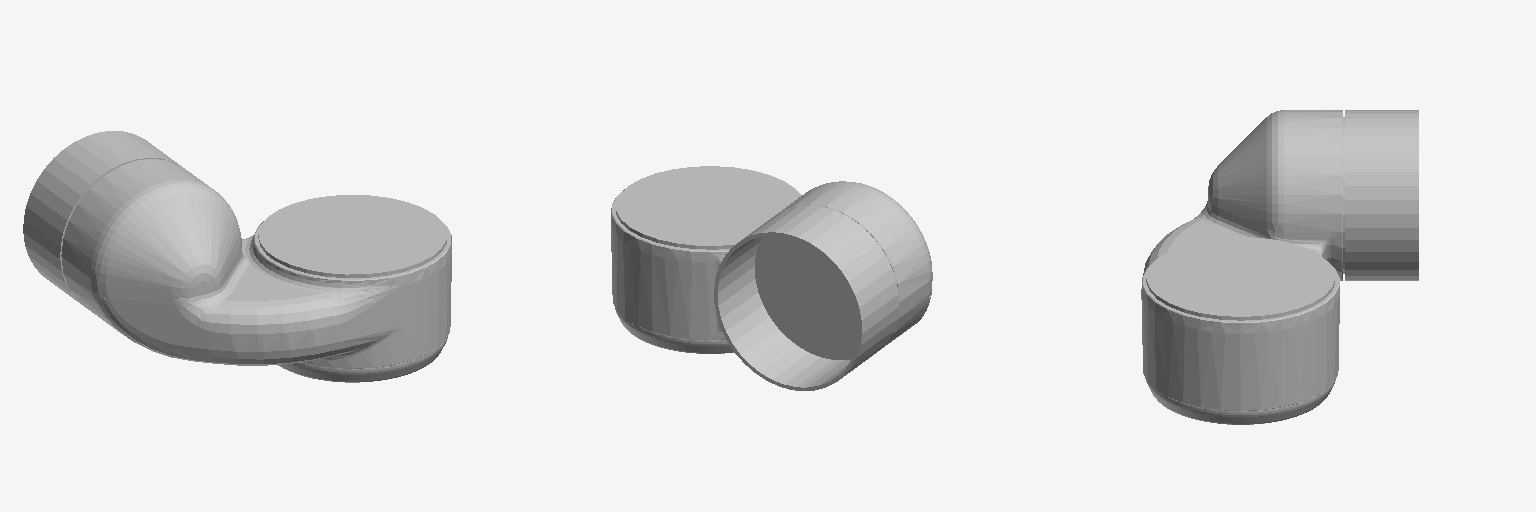
The model's file is shoulder_pan_link.obj.
3 views of the same model, side by side, from view 1: azimuth 30°, elevation 25°; view 2: azimuth 150°, elevation 25°; view 3: azimuth 270°, elevation 25° (orthographic).
Visible parts, largest first — view 1: shoulder_pan_link_shoulder pan link.001_Material_001.032; view 2: shoulder_pan_link_shoulder pan link.001_Material_001.032; view 3: shoulder_pan_link_shoulder pan link.001_Material_001.032.
Boxes of the visible parts, box(x1,y1,x2,y2) form: shoulder_pan_link_shoulder pan link.001_Material_001.032: box(23, 131, 451, 382); shoulder_pan_link_shoulder pan link.001_Material_001.032: box(611, 166, 932, 390); shoulder_pan_link_shoulder pan link.001_Material_001.032: box(1141, 110, 1418, 424).
Bounding box in the file's own units: 0.2295 × 0.1265 × 0.1685.